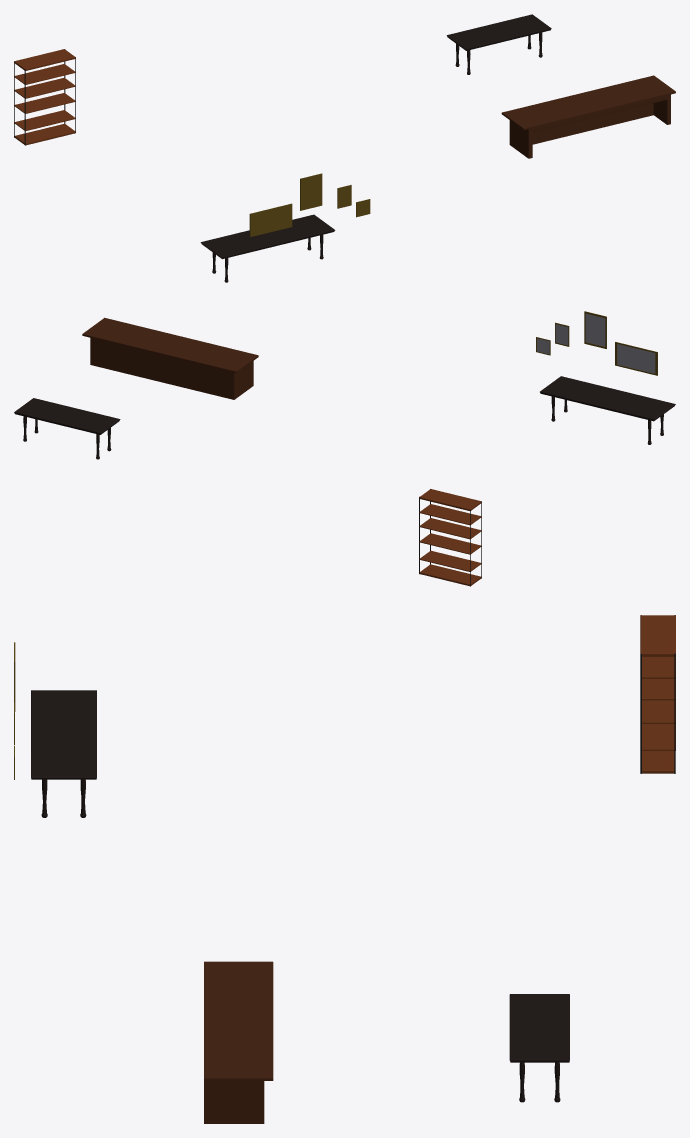
Rendered from Blockout_Objects_Static.fbx.
3 views of the same model, one above another, from view 1: azimuth 30°, elevation 25°; view 2: azimuth 150°, elevation 25°; view 3: azimuth 270°, elevation 25° (orthographic). The views are drawn at different scales.
Visible parts, largest first — view 1: Objects_Static; view 2: Objects_Static; view 3: Objects_Static.
Boxes of the visible parts, x1=… form: Objects_Static: x1=14, y1=14, x2=675, y2=282; Objects_Static: x1=14, y1=311, x2=675, y2=586; Objects_Static: x1=14, y1=615, x2=675, y2=1123.
Bounding box in the file's own units: 15.37 × 2.72 × 10.96.
